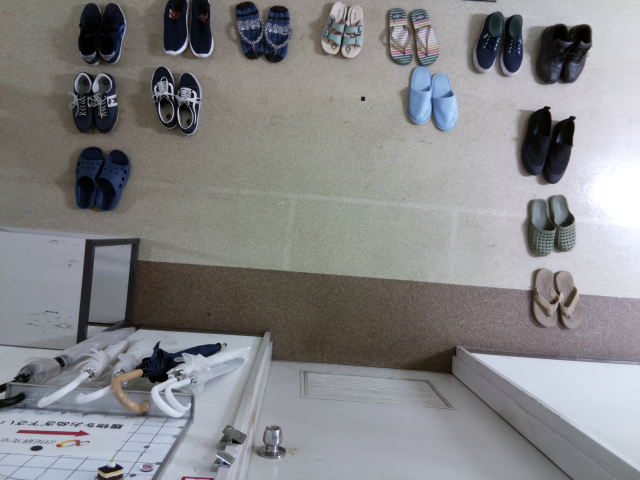Copy of Copy of Copy of Copy of Copy of Copy of Copy of Copy of Copy of Copy of: (171, 62, 207, 134), (146, 61, 182, 133), (68, 144, 105, 212), (94, 1, 129, 72), (72, 1, 107, 72), (93, 145, 130, 212), (428, 69, 462, 140), (408, 6, 442, 70), (181, 1, 216, 61), (159, 1, 194, 61), (381, 5, 413, 70), (402, 67, 435, 130), (261, 2, 294, 64), (88, 68, 119, 134), (69, 69, 100, 135), (316, 1, 348, 62), (232, 1, 264, 62), (338, 1, 365, 60)
Copy of Copy of Copy of Copy of Copy of Copy of Copy of Copy of Copy of shoe: (475, 8, 508, 81)
Copy of Copy of Copy of Copy of Copy of Copy of Copy of Copy of shoe: (498, 12, 531, 85)
Copy of Copy of Copy of Copy of Copy of Copy of Copy of shoe: (533, 15, 566, 88)
Copy of Copy of Copy of Copy of Copy of Copy of shoe: (561, 21, 595, 94)
Copy of Copy of Copy of Copy of Copy of shoe: (520, 107, 553, 180)
Copy of Copy of Copy of Copy of shoe: (543, 112, 577, 185)
Copy of Copy of Copy of shoe: (525, 194, 554, 261)
Copy of Copy of shoe: (548, 185, 577, 252)
Copy of shoe: (556, 268, 584, 335)
shoe: (532, 265, 561, 332)
